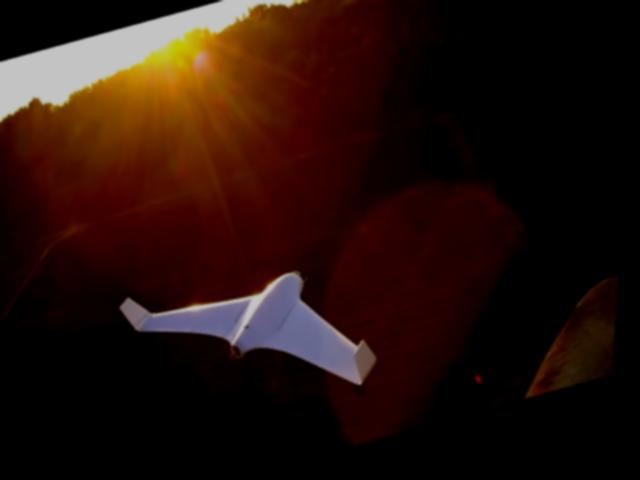plane: (114, 237, 395, 451)
